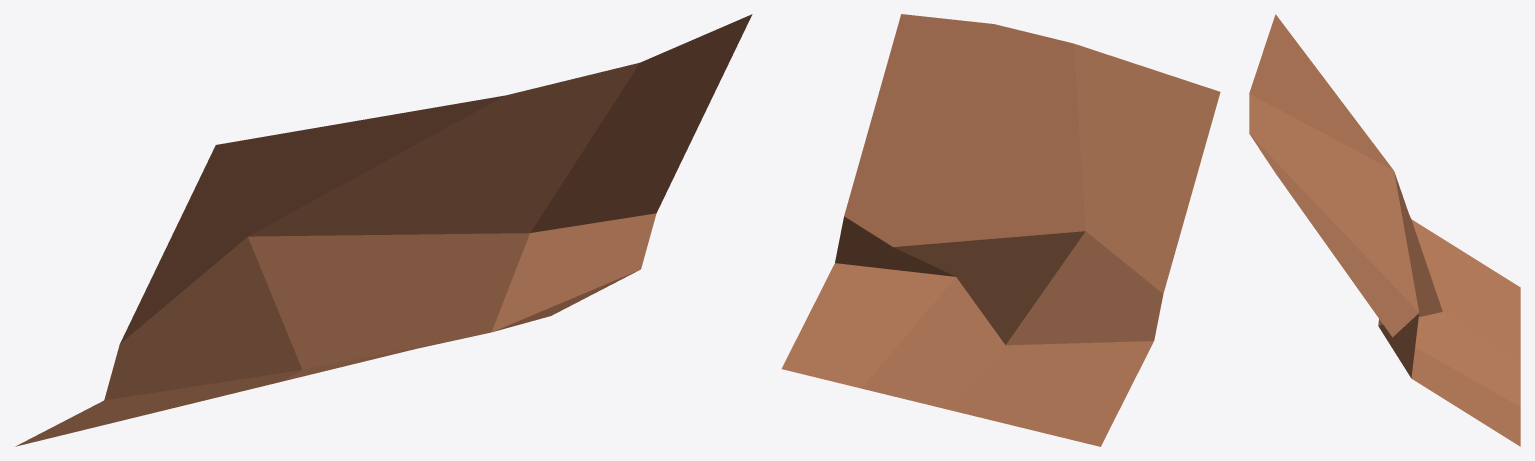
The model's file is Edge Bottom.fbx.
3 views of the same model, side by side, from view 1: azimuth 30°, elevation 25°; view 2: azimuth 150°, elevation 25°; view 3: azimuth 270°, elevation 25° (orthographic). The views are drawn at different scales.
Parts seen in each view (by area): view 1: Edge Bottom; view 2: Edge Bottom; view 3: Edge Bottom.
Part boxes in pixels (x1,y1,x2,y2): Edge Bottom: (15, 14, 752, 446); Edge Bottom: (781, 14, 1220, 446); Edge Bottom: (1249, 14, 1520, 446).
Size of the model in its own units: 50 by 40 by 36.
